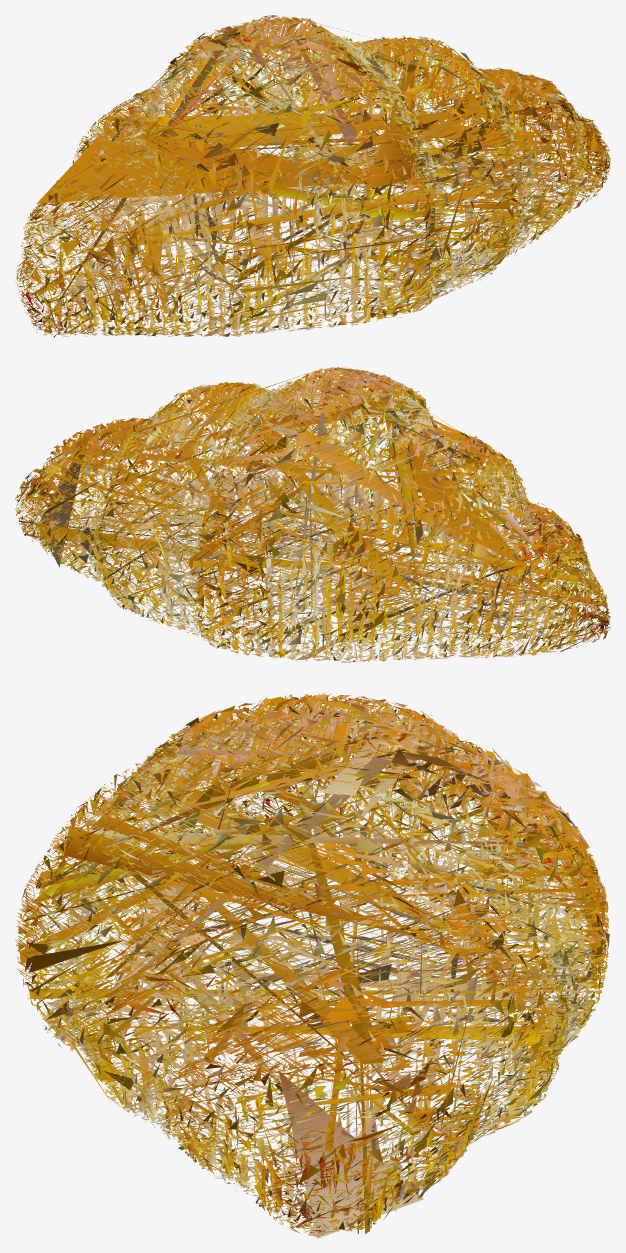
The model's file is croissant_pastry_64432.glb.
3 renders of one model, top to bottom at view 1: azimuth 30°, elevation 25°; view 2: azimuth 150°, elevation 25°; view 3: azimuth 270°, elevation 25°, orthographic. The views are drawn at different scales.
Visible parts, largest first — view 1: Ref; view 2: Ref; view 3: Ref.
Boxes of the visible parts, <box> form: Ref: <box>15,15,610,337</box>; Ref: <box>15,367,610,662</box>; Ref: <box>15,692,609,1238</box>.
Size of the model in its own units: 1.81 by 0.6516 by 1.12.
